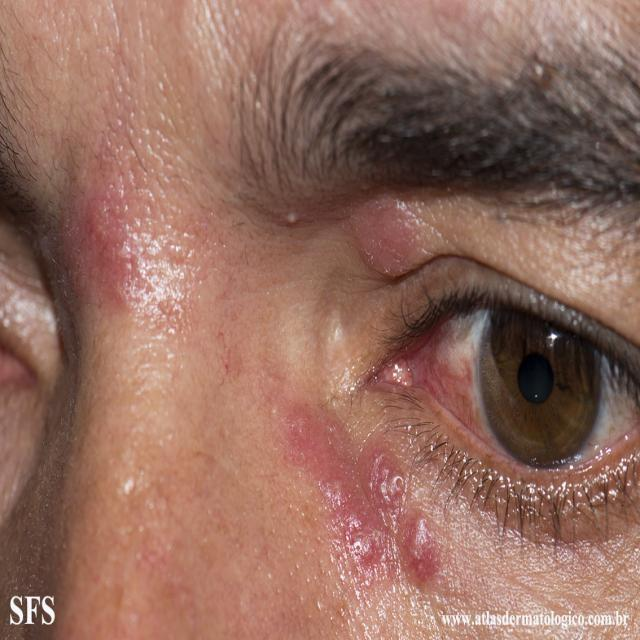Rosacea: (249, 196, 452, 606), (82, 96, 211, 336)
